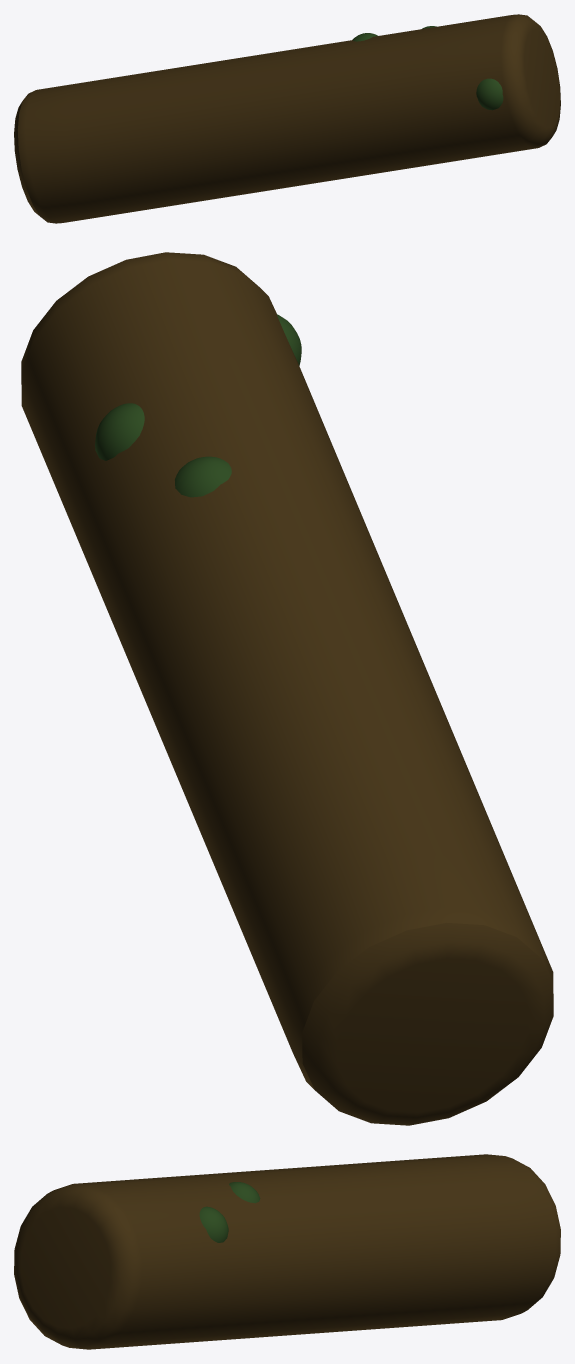
File: log.fbx
The picture shows the model from 3 angles, top to bottom: view 1: azimuth 30°, elevation 25°; view 2: azimuth 150°, elevation 25°; view 3: azimuth 270°, elevation 25°; orthographic projection. The views are drawn at different scales.
Parts seen in each view (by area): view 1: polySurface447; view 2: polySurface447; view 3: polySurface447.
Part boxes in pixels (bbox=[...]): polySurface447: bbox=[14, 14, 560, 223]; polySurface447: bbox=[21, 252, 553, 1125]; polySurface447: bbox=[14, 1154, 560, 1349].
Size of the model in its own units: 0.9935 by 0.5811 by 0.9696.
